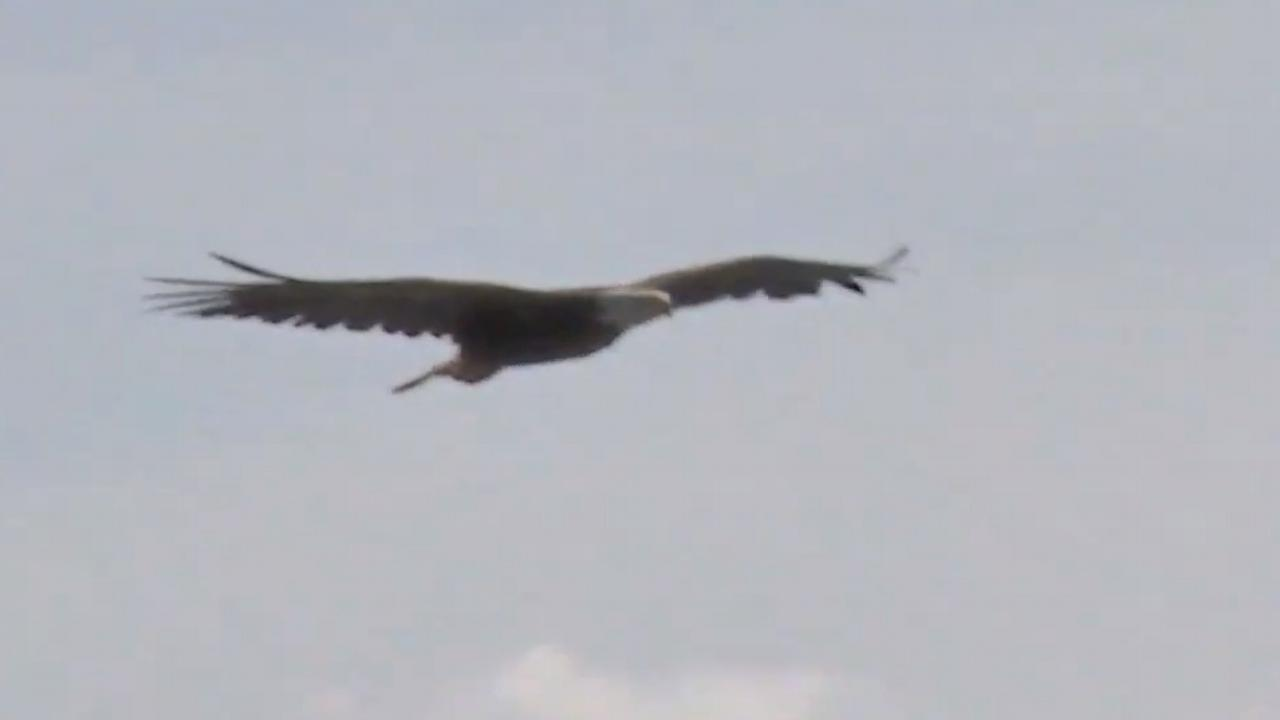Bird: (139, 235, 924, 406)
